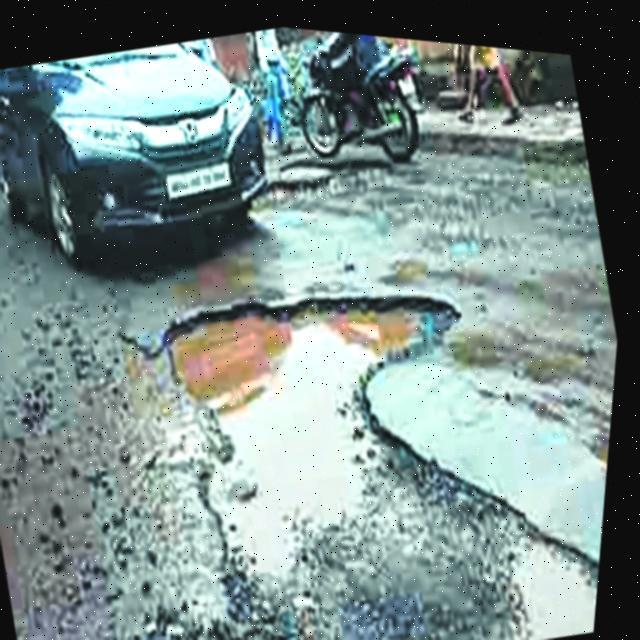pothole: (134, 194, 628, 640)
